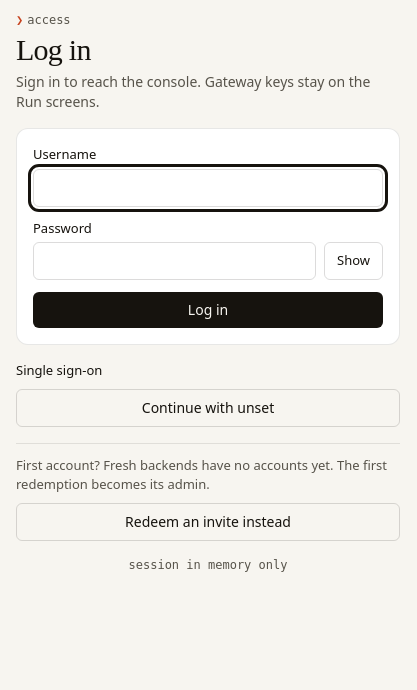
it: LoginPage › surfaces wrong credentials and lockouts distinctly
This screenshot has width=417, height=690.
Type "op" into the field labelled "Username" at x=208, y=188, box [33,168,383,206]
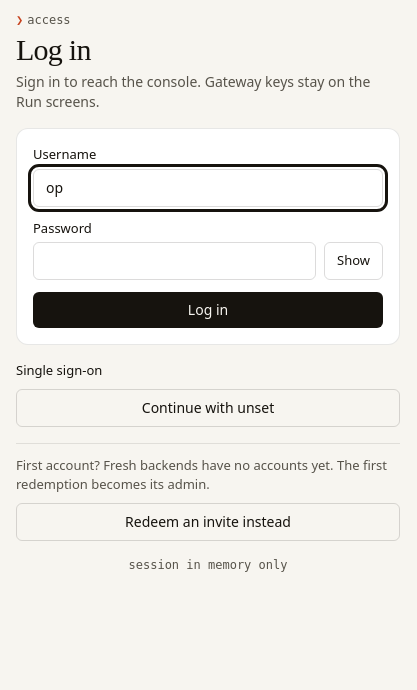
Type "nope" into the password field labelled "Password" at x=174, y=261, box [33,242,316,280]
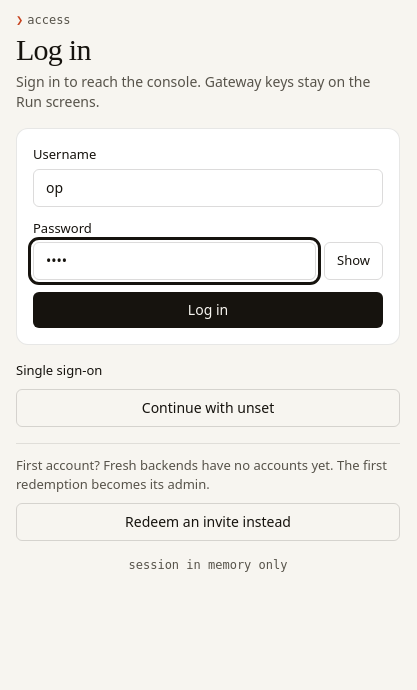
Click the button "Log in" at x=208, y=310, box [33,292,383,328]
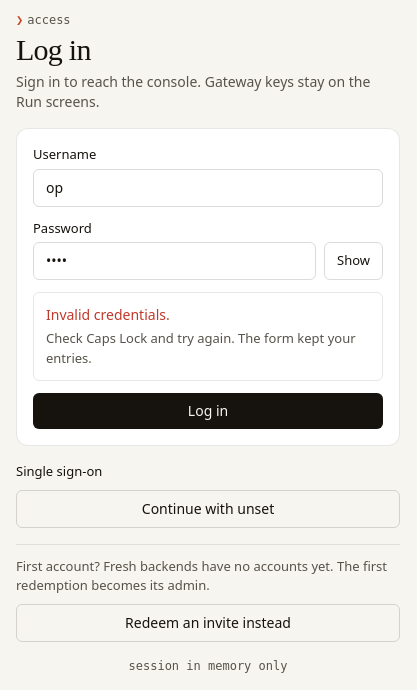
Expected: the message shows "Invalid credentials", [46,305,170,324]
